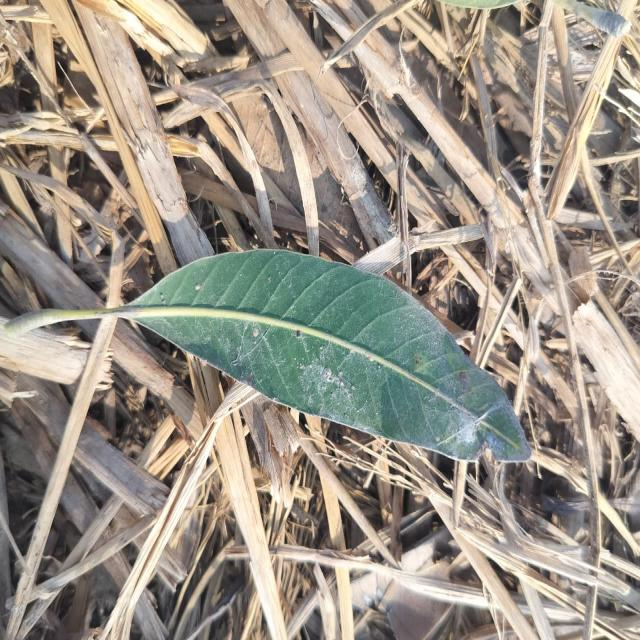Powdery Mildew: (459, 408, 494, 455), (306, 363, 319, 392)
